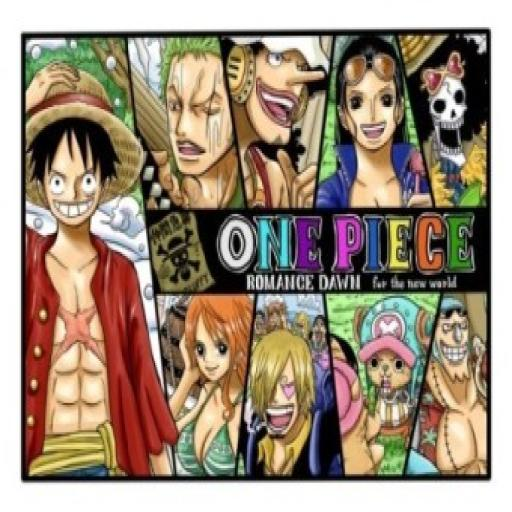Luffy: (11, 65, 144, 230)
Nami: (182, 292, 246, 386)
NicoRobin: (330, 30, 413, 154)
Usopp: (223, 34, 326, 156)
Zoro: (148, 36, 239, 166)
sanji: (246, 334, 311, 442)
